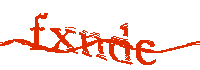c: (135, 37, 159, 67)
d: (109, 22, 134, 67)
f: (30, 12, 48, 51)
n: (79, 29, 108, 61)
x: (50, 26, 79, 54)
